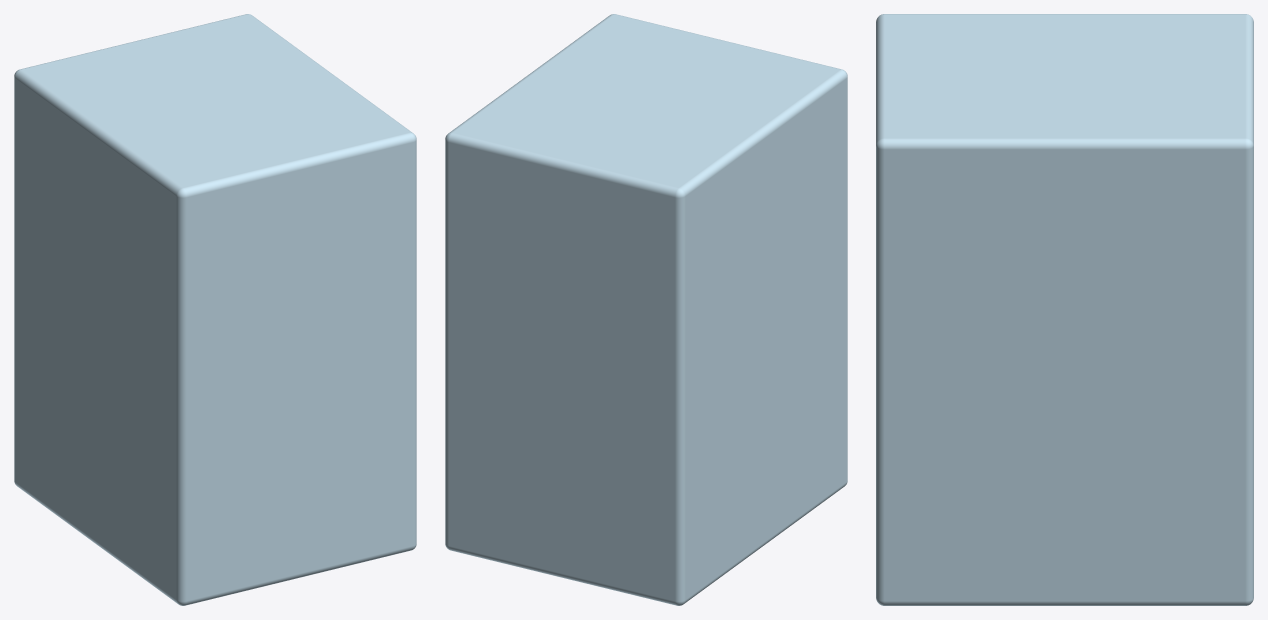
Rendered from main_enclosure.gltf.
The picture shows the model from 3 angles, left to right: view 1: azimuth 30°, elevation 25°; view 2: azimuth 150°, elevation 25°; view 3: azimuth 270°, elevation 25°; orthographic projection. The views are drawn at different scales.
Parts seen in each view (by area): view 1: root_node; view 2: root_node; view 3: root_node.
Part boxes in pixels (x1,y1,x2,y2): root_node: (14, 14, 416, 605); root_node: (445, 14, 847, 605); root_node: (876, 14, 1253, 605).
Size of the model in its own units: 0.18 by 0.3 by 0.22.
